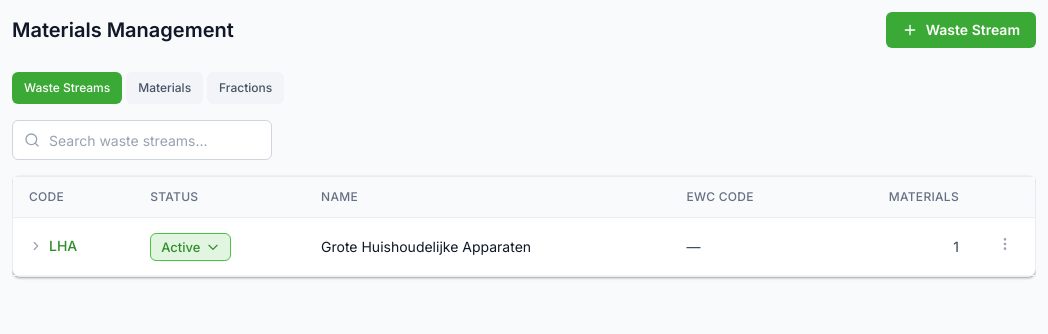
MaterialsManagementPage › renders materials with waste stream badge after data loads
The image size is (1048, 334).
Click the button "Materials" at (165, 88), box [126, 72, 203, 104]
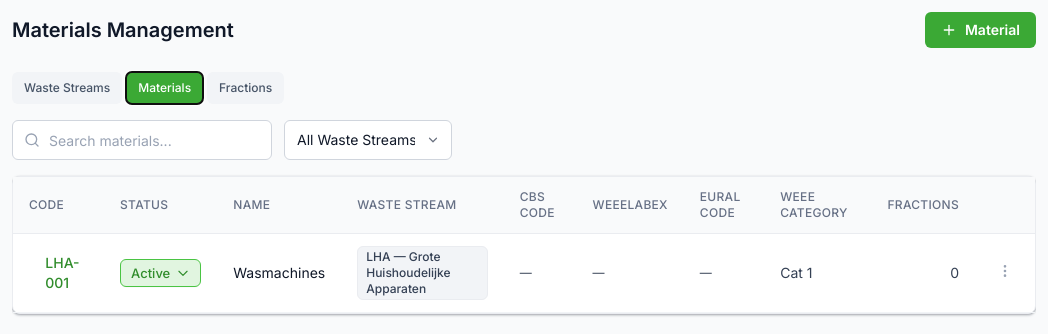
Now the text "LHA-001" is shown, box [45, 254, 80, 291]
Now the text "Wasmachines" is shown, box [217, 234, 341, 312]
Now the text "Cat 1" is shown, box [764, 234, 872, 312]
